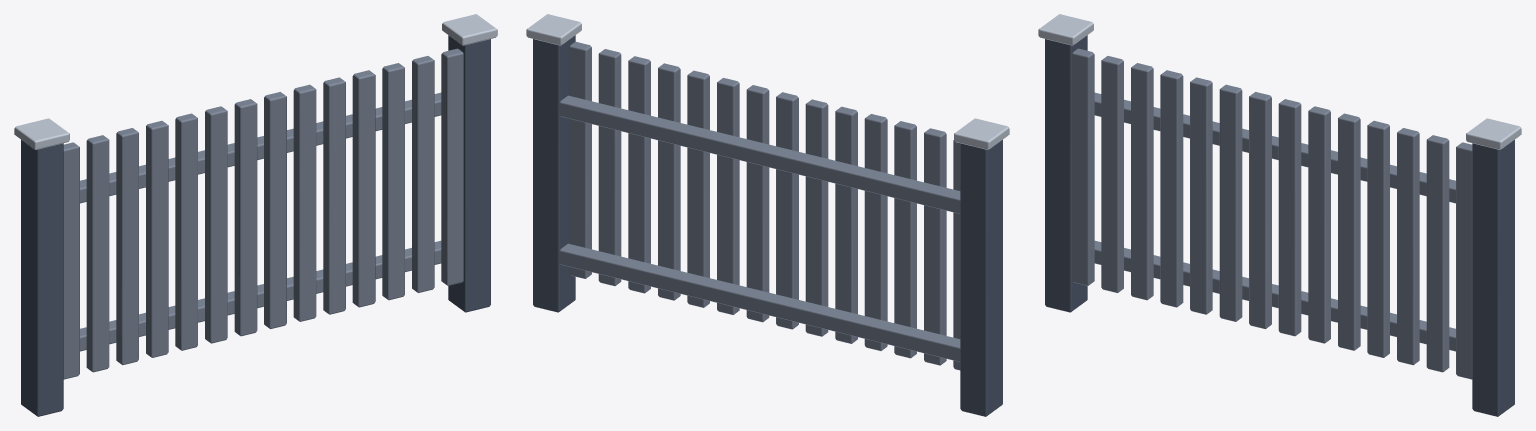
File: 围栏-lite.glb
3 renders of one model, left to right at view 1: azimuth 30°, elevation 25°; view 2: azimuth 150°, elevation 25°; view 3: azimuth 330°, elevation 25°, orthographic.
Visible parts, largest first — view 1: garden-fence; view 2: garden-fence; view 3: garden-fence.
Boxes of the visible parts, x1,y1,x2,y2 form: garden-fence: (14,14,497,416); garden-fence: (526,14,1009,416); garden-fence: (1038,14,1521,416).
Size of the model in its own units: 2 by 1.15 by 0.16.
